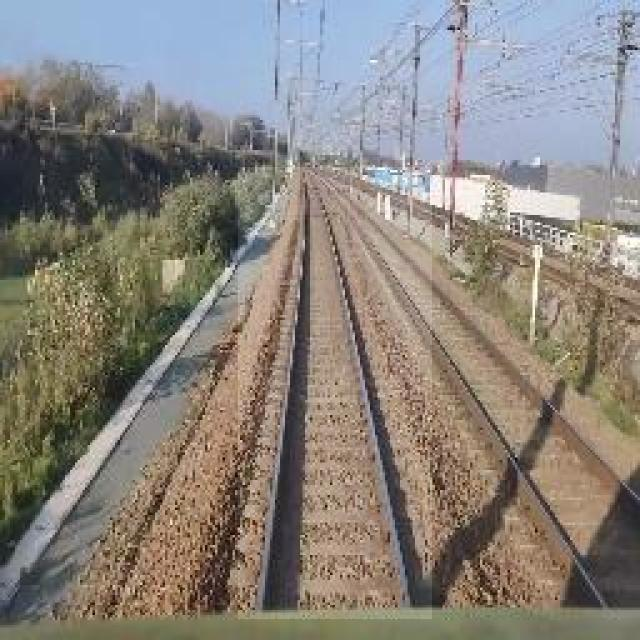rail: (240, 169, 433, 620)
